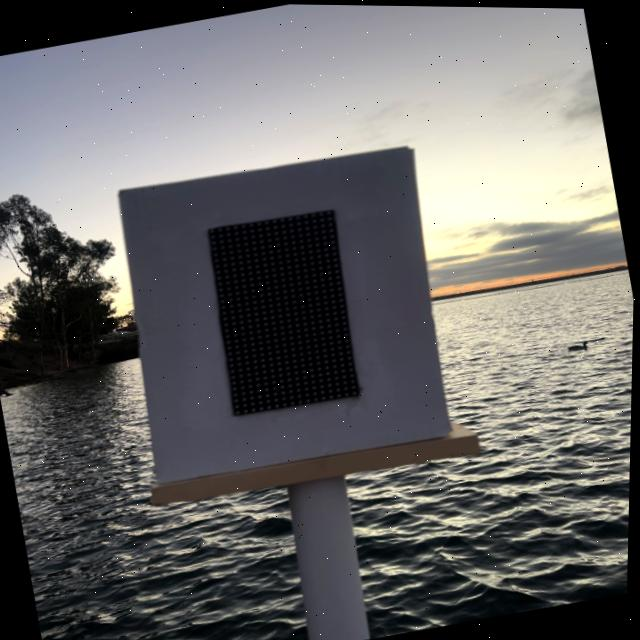led: (168, 185, 406, 457)
